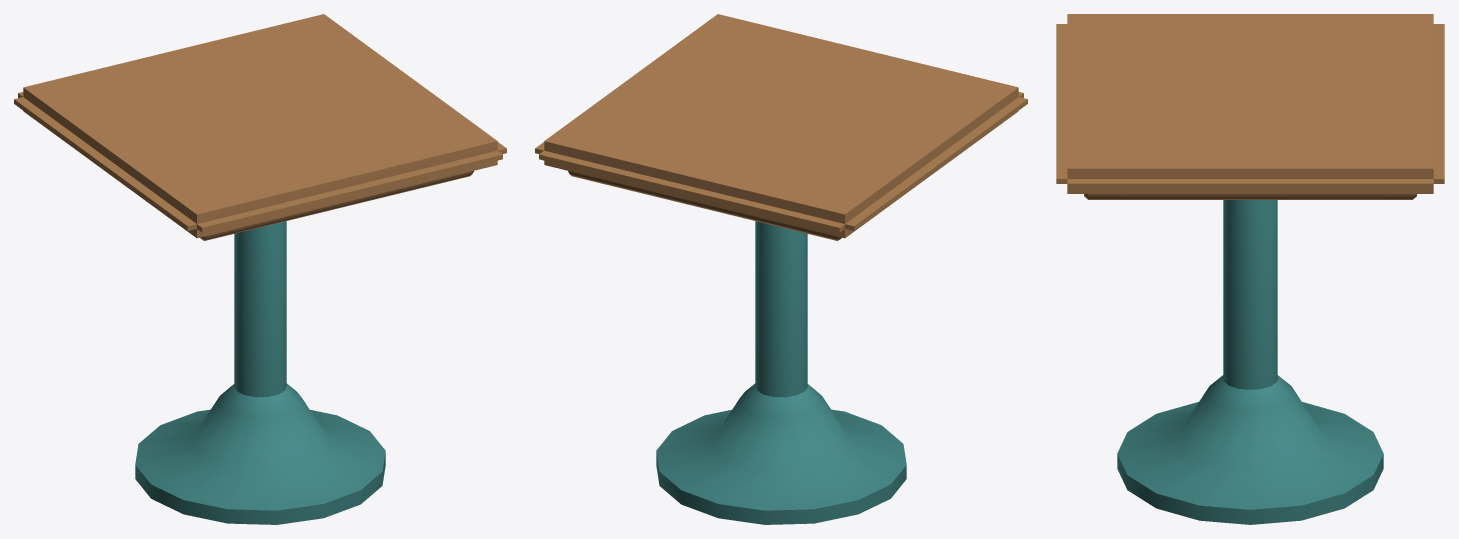
File: SM_Table_Cafe_Square_01.glb
The picture shows the model from 3 angles, left to right: view 1: azimuth 30°, elevation 25°; view 2: azimuth 150°, elevation 25°; view 3: azimuth 270°, elevation 25°; orthographic projection. The views are drawn at different scales.
Visible parts, largest first — view 1: SM_Table_Cafe_Square_01; view 2: SM_Table_Cafe_Square_01; view 3: SM_Table_Cafe_Square_01.
Boxes of the visible parts, box(x1,y1,x2,y2) form: SM_Table_Cafe_Square_01: box(14, 14, 506, 524); SM_Table_Cafe_Square_01: box(535, 14, 1027, 524); SM_Table_Cafe_Square_01: box(1056, 14, 1444, 524).
Size of the model in its own units: 0.7 by 0.75 by 0.7.
Materials: 1 (1 with a texture image).
